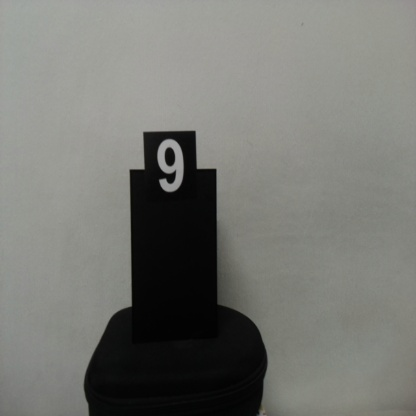id_9: (143, 134, 197, 210)
